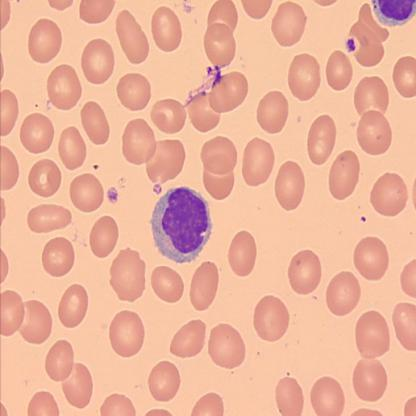Atypical lymphocyte: (150, 185, 215, 263)
